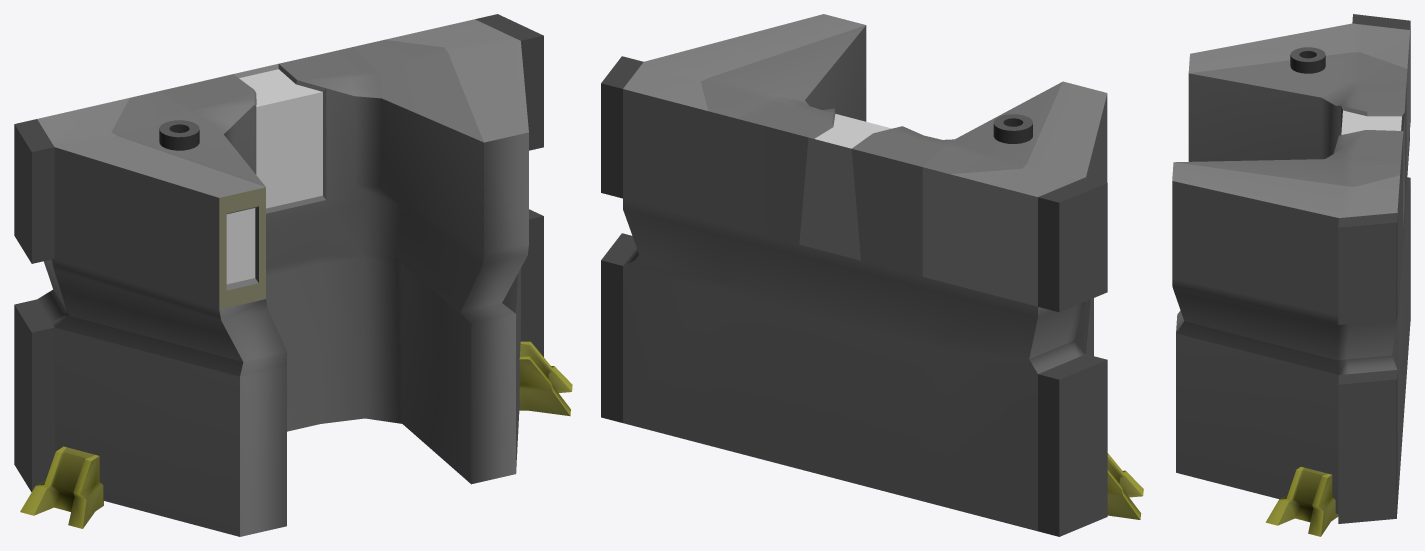
File: estabilizador.fbx
The picture shows the model from 3 angles, left to right: view 1: azimuth 30°, elevation 25°; view 2: azimuth 150°, elevation 25°; view 3: azimuth 270°, elevation 25°; orthographic projection. The views are drawn at different scales.
Visible parts, largest first — view 1: polySurface169; view 2: polySurface169; view 3: polySurface169.
Part boxes in pixels (bbox=[...]): polySurface169: bbox=[14, 14, 572, 536]; polySurface169: bbox=[601, 14, 1143, 536]; polySurface169: bbox=[1172, 14, 1410, 536].
Size of the model in its own units: 711 by 448 by 310.
